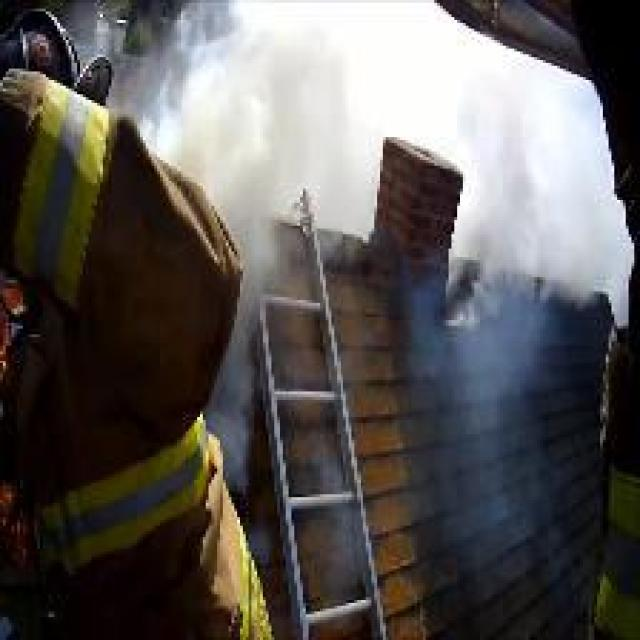other: (26, 470, 198, 543)
smoke: (199, 41, 325, 190), (489, 136, 615, 267)
